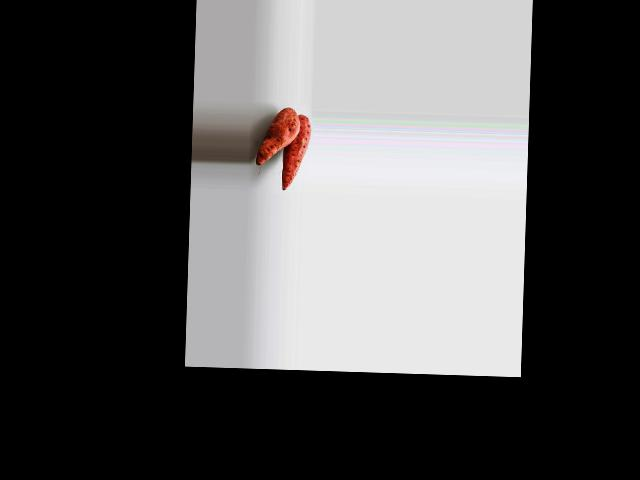sweet_potato: (281, 114, 310, 186)
